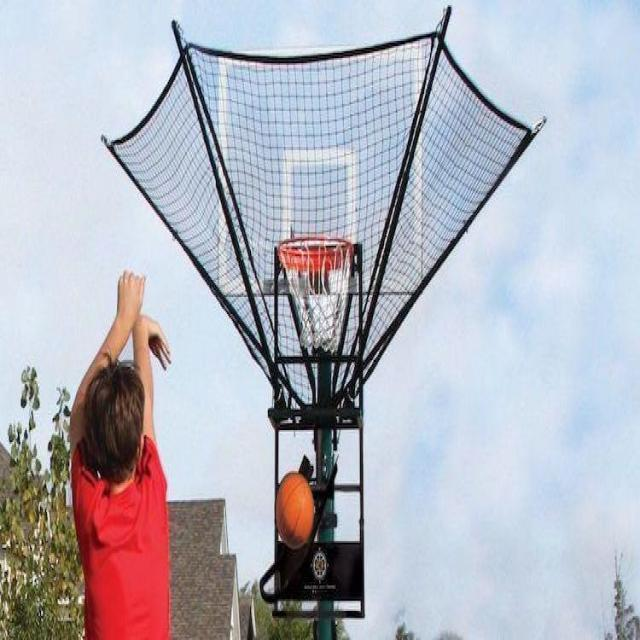Basketball: (276, 471, 314, 548)
hoop: (278, 236, 354, 354)
